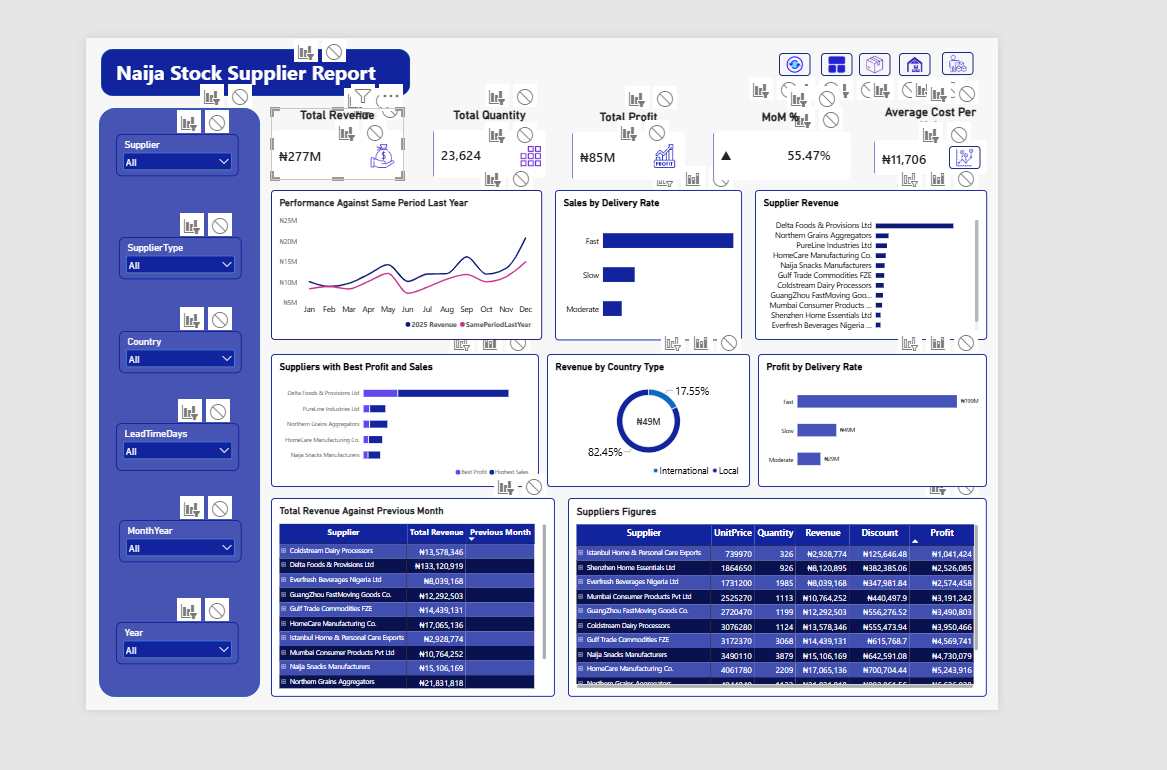

Layout of this report page (visuals, bound fields, positions):
{"tool":"powerbi","page":{"name":"Supplier Page ","canvas":[1940,1430],"ordinal":3},"visuals":[{"type":"barChart","title":"Sales by Delivery Rate","fields":{"Category":["Dim_Supplier.Delivery Rate"],"Y":["Overview_Measure_Table.Total Revenue"]},"box":[998,323.4,398.4,319.7],"z":0},{"type":"image","box":[1644.7,31.9,66.5,49.2],"z":1000},{"type":"image","box":[1730.6,32.7,66.5,49.2],"z":2000},{"type":"image","box":[1820.4,30.6,66.5,49.2],"z":3000},{"type":"image","box":[1563.8,31.9,66.5,49.2],"z":4000},{"type":"image","box":[1474.5,31.9,66.5,49.2],"z":5000},{"type":"pivotTable","title":"Suppliers Figures","fields":{"Rows":["Dim_Supplier.SupplierName","Dim_Supplier.SupplierType","Dim_Supplier.Country"],"Values":["Sum(Fact_Sales.UnitPrice)","Overview_Measure_Table.Total Quantity","Overview_Measure_Table.Total Revenue","Overview_Measure_Table.Total Discount","Overview_Measure_Table.Total Profit"]},"box":[1025.5,978.7,891.5,423.4],"z":6000},{"type":"shape","box":[32.7,23.1,657.9,100],"z":7000},{"type":"shape","box":[28.6,149,342.9,1253.1],"z":8000},{"type":"slicer","fields":{"Values":["Dim_Supplier.SupplierName"]},"box":[63.2,205.3,261.2,90.5],"z":9000},{"type":"slicer","fields":{"Values":["Dim_Supplier.SupplierType"]},"box":[69.4,422.4,261.2,90.5],"z":10000},{"type":"slicer","fields":{"Values":["Dim_Supplier.Country"]},"box":[69.4,622.4,261.2,90.5],"z":11000},{"type":"slicer","fields":{"Values":["Dim_Date.MonthYear"]},"box":[69.4,1026.5,261.2,90.5],"z":12000},{"type":"slicer","fields":{"Values":["Dim_Supplier.LeadTimeDays"]},"box":[63.3,818.4,261.5,101.9],"z":13000},{"type":"textbox","box":[111.5,53.8,461.5,53.8],"z":14000},{"type":"textbox","box":[63.5,42.3,615.4,61.5],"z":15000},{"type":"barChart","title":"Suppliers with Best Profit and Sales","fields":{"Category":["Dim_Supplier.SupplierName"],"Y":["Supplier_Measure_Table.Suppliers with best profit","Supplier_Measure_Table.Suppliers with highest sales"]},"box":[393.6,672.3,570.2,283],"z":16000},{"type":"cardVisual","title":"Total Quantity","fields":{"Data":["Overview_Measure_Table.Total Quantity"]},"box":[738.8,149,241,150],"z":17000},{"type":"cardVisual","title":"Total Profit","fields":{"Data":["Overview_Measure_Table.Total Profit"]},"box":[1034.7,153.1,241,150],"z":18000},{"type":"cardVisual","title":"Total Revenue","fields":{"Data":["Overview_Measure_Table.Total Revenue"]},"box":[393.6,148.9,283,153.2],"z":19000},{"type":"cardVisual","title":"Average Cost Per Unit","fields":{"Data":["Supplier_Measure_Table.Average Cost Per Unit"]},"box":[1677.6,142.9,241,150],"z":20000},{"type":"barChart","title":"Supplier Revenue","fields":{"Category":["Dim_Supplier.SupplierName"],"Y":["Supplier_Measure_Table.Supplier Revenue %"]},"box":[1423.4,323.4,493.6,319.1],"z":21000},{"type":"donutChart","title":"Revenue by Country Type","fields":{"Y":["Supplier_Measure_Table.International Supplier Revenue","Supplier_Measure_Table.Local Supplier Revenue"]},"box":[980.9,672.3,431.9,283],"z":22000},{"type":"lineChart","title":"Performance Against Same Period Last Year","fields":{"Category":["Dim_Date.Month Name"],"Y":["Overview_Measure_Table.2025 Revenue","Overview_Measure_Table.SamePeriodLastYear"]},"box":[393.6,323.4,576.6,319.1],"z":23000},{"type":"shape","box":[1334.6,197.4,295.3,105.1],"z":24000},{"type":"cardVisual","title":"MoM %","fields":{"Data":["Overview_Measure_Table.MoM Icon","Overview_Measure_Table.Latest Month MoM %"]},"box":[1334.6,152.1,286,146.3],"z":25000},{"type":"image","box":[912.2,230.6,66.5,42.6],"z":26000},{"type":"image","box":[1202,224.5,57.2,50.5],"z":27000},{"type":"image","box":[602,224.5,57.2,50.5],"z":28000},{"type":"pivotTable","title":"Total Revenue Against Previous Month","fields":{"Rows":["Dim_Supplier.SupplierName","Dim_Date.Month Name"],"Values":["Overview_Measure_Table.Total Revenue","Overview_Measure_Table.Previous Month"]},"box":[393.6,978.7,604.3,423.4],"z":29000},{"type":"barChart","title":"Profit by Delivery Rate","fields":{"Category":["Dim_Supplier.Delivery Rate"],"Y":["Overview_Measure_Table.Total Revenue"]},"box":[1429.8,672.3,487.2,283],"z":30000},{"type":"slicer","fields":{"Values":["Dim_Date.Year"]},"box":[63.3,1242.9,261.2,90.5],"z":31000},{"type":"image","box":[1836.2,229.8,66.5,49.2],"z":32000}]}

Visuals, with their boxes on the page's 1940x1430 design canvas (x1, y1, x2, y2). These are canvas units, not pixel positions in the 1167x770 screenshot, which may show the page scaled, cropped or inside an application window:
"Sales by Delivery Rate" barChart: pyautogui.locateOnScreen(998, 323, 1396, 643)
image: pyautogui.locateOnScreen(1645, 32, 1711, 81)
image: pyautogui.locateOnScreen(1731, 33, 1797, 82)
image: pyautogui.locateOnScreen(1820, 31, 1887, 80)
image: pyautogui.locateOnScreen(1564, 32, 1630, 81)
image: pyautogui.locateOnScreen(1474, 32, 1541, 81)
"Suppliers Figures" pivotTable: pyautogui.locateOnScreen(1026, 979, 1917, 1402)
shape: pyautogui.locateOnScreen(33, 23, 691, 123)
shape: pyautogui.locateOnScreen(29, 149, 372, 1402)
slicer - Dim_Supplier.SupplierName: pyautogui.locateOnScreen(63, 205, 324, 296)
slicer - Dim_Supplier.SupplierType: pyautogui.locateOnScreen(69, 422, 331, 513)
slicer - Dim_Supplier.Country: pyautogui.locateOnScreen(69, 622, 331, 713)
slicer - Dim_Date.MonthYear: pyautogui.locateOnScreen(69, 1026, 331, 1117)
slicer - Dim_Supplier.LeadTimeDays: pyautogui.locateOnScreen(63, 818, 325, 920)
textbox: pyautogui.locateOnScreen(112, 54, 573, 108)
textbox: pyautogui.locateOnScreen(64, 42, 679, 104)
"Suppliers with Best Profit and Sales" barChart: pyautogui.locateOnScreen(394, 672, 964, 955)
"Total Quantity" cardVisual: pyautogui.locateOnScreen(739, 149, 980, 299)
"Total Profit" cardVisual: pyautogui.locateOnScreen(1035, 153, 1276, 303)
"Total Revenue" cardVisual: pyautogui.locateOnScreen(394, 149, 677, 302)
"Average Cost Per Unit" cardVisual: pyautogui.locateOnScreen(1678, 143, 1919, 293)
"Supplier Revenue" barChart: pyautogui.locateOnScreen(1423, 323, 1917, 642)
"Revenue by Country Type" donutChart: pyautogui.locateOnScreen(981, 672, 1413, 955)
"Performance Against Same Period Last Year" lineChart: pyautogui.locateOnScreen(394, 323, 970, 642)
shape: pyautogui.locateOnScreen(1335, 197, 1630, 302)
"MoM %" cardVisual: pyautogui.locateOnScreen(1335, 152, 1621, 298)
image: pyautogui.locateOnScreen(912, 231, 979, 273)
image: pyautogui.locateOnScreen(1202, 224, 1259, 275)
image: pyautogui.locateOnScreen(602, 224, 659, 275)
"Total Revenue Against Previous Month" pivotTable: pyautogui.locateOnScreen(394, 979, 998, 1402)
"Profit by Delivery Rate" barChart: pyautogui.locateOnScreen(1430, 672, 1917, 955)
slicer - Dim_Date.Year: pyautogui.locateOnScreen(63, 1243, 324, 1333)
image: pyautogui.locateOnScreen(1836, 230, 1903, 279)
